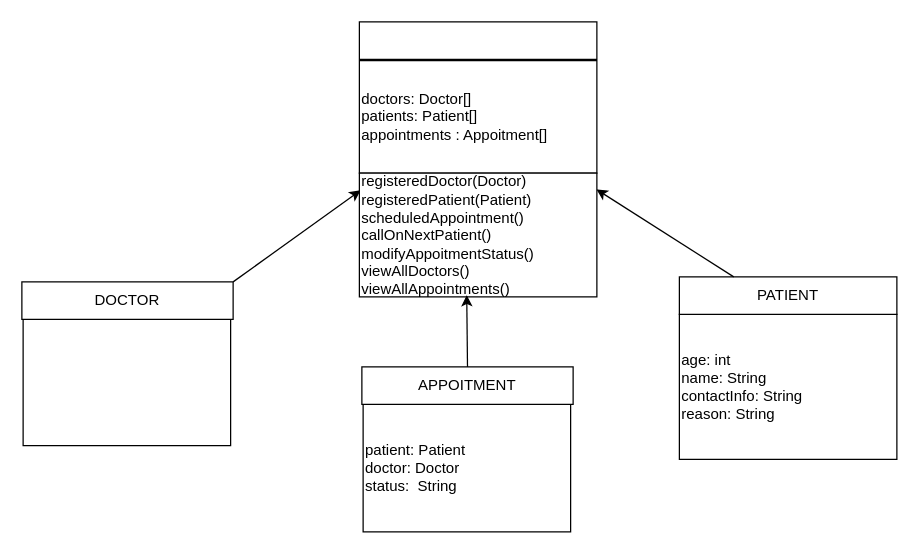
The diagram is 919 pixels wide and 554 high, and some of its shapes have lost their labels. Each missing label, with the centre of its shape:
HOSPITAL: [477,40]
name: String contactInfo : String department : String isAvailable: bool: [126,381]
